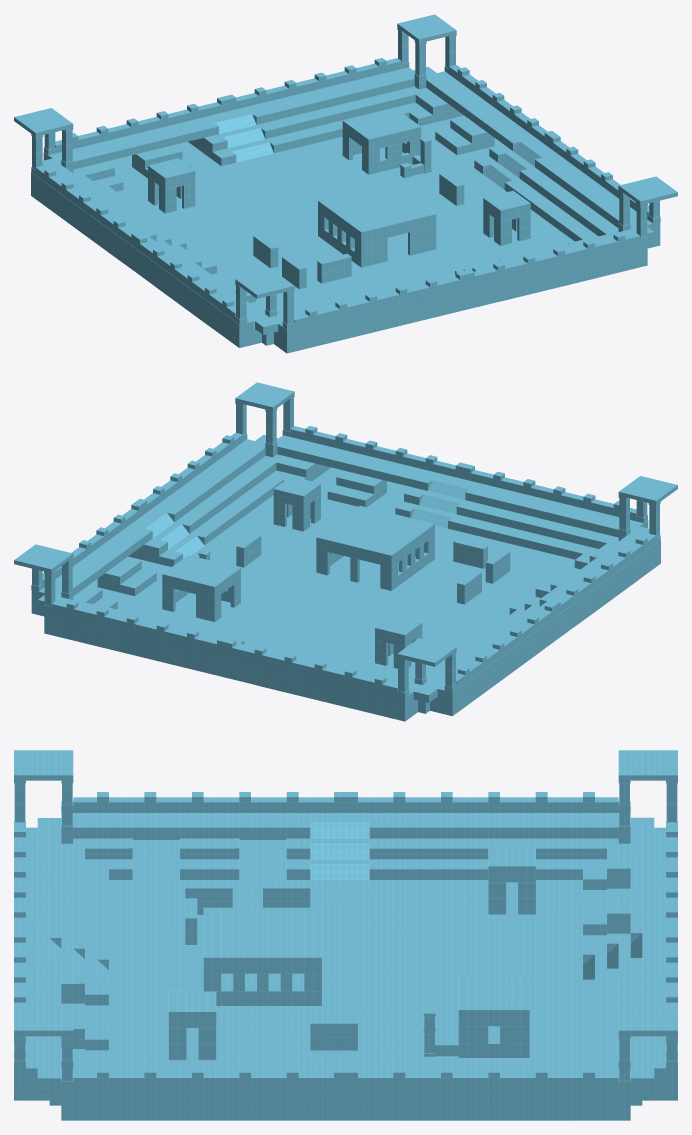
3 renders of one model, top to bottom at view 1: azimuth 30°, elevation 25°; view 2: azimuth 150°, elevation 25°; view 3: azimuth 270°, elevation 25°, orthographic. The views are drawn at different scales.
Visible parts, largest first — view 1: scene_03; view 2: scene_03; view 3: scene_03.
Boxes of the visible parts, x1,y1,x2,y2 form: scene_03: [14, 14, 677, 353]; scene_03: [14, 382, 677, 721]; scene_03: [14, 750, 677, 1120].
Bounding box in the file's own units: 84.05 × 12.67 × 84.
